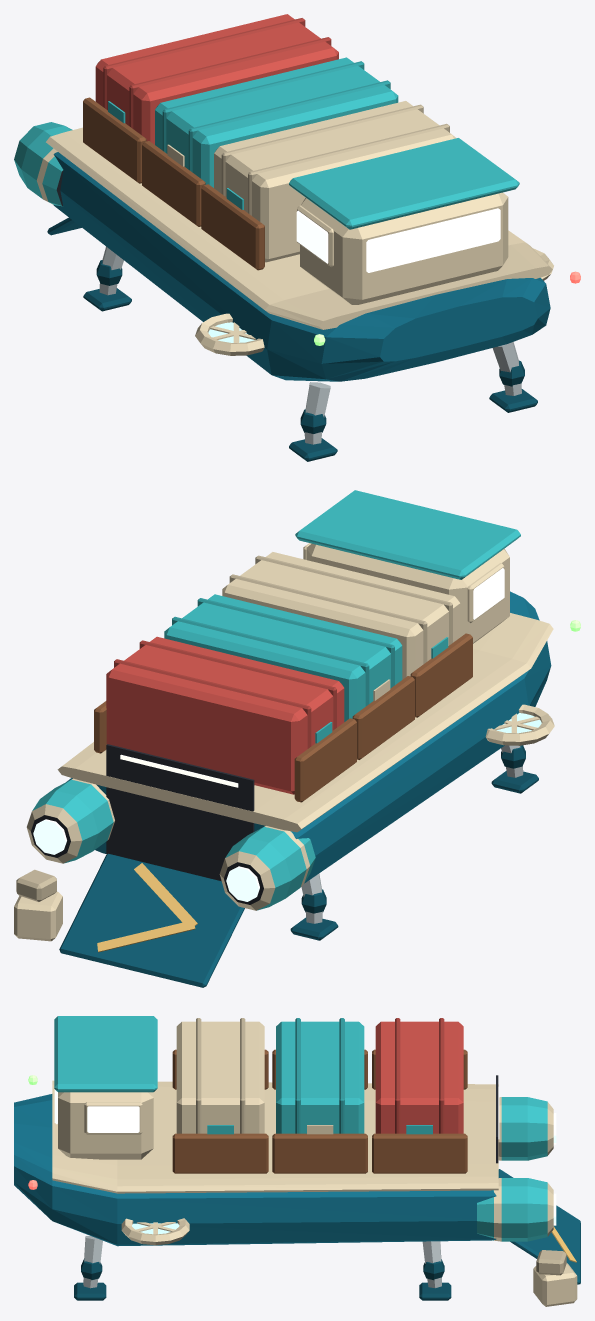
The model's file is pel-f_offen.glb.
3 renders of one model, top to bottom at view 1: azimuth 30°, elevation 25°; view 2: azimuth 150°, elevation 25°; view 3: azimuth 270°, elevation 25°, orthographic. The views are drawn at different scales.
Visible parts, largest first — view 1: rumpf, brücke, frachtmodul_1, deckstreifen, frachtmodul_3, frachtmodul_2, fenster, halterung_1, halterung_2, halterung_3, triebwerk_r, hubdüse (+3 smaller); view 2: frachtmodul_3, rampe, brücke, deckstreifen, rumpf, frachtmodul_1, frachtmodul_2, laderaum, triebwerk_r, triebwerk_l, halterung_3, ladung (+6 smaller); view 3: rumpf, deckstreifen, brücke, frachtmodul_1, frachtmodul_3, frachtmodul_2, halterung_1, triebwerk_l, halterung_3, halterung_2, triebwerk_r, ladung (+5 smaller).
Boxes of the visible parts, x1,y1,x2,y2 form: rumpf: [53, 152, 550, 381]; brücke: [289, 138, 519, 304]; frachtmodul_1: [214, 101, 456, 262]; deckstreifen: [46, 127, 552, 329]; frachtmodul_3: [95, 14, 338, 144]; frachtmodul_2: [155, 57, 398, 187]; fenster: [296, 205, 500, 272]; halterung_1: [201, 184, 264, 270]; halterung_2: [142, 141, 205, 226]; halterung_3: [83, 97, 146, 183]; triebwerk_r: [14, 122, 72, 206]; hubdüse: [195, 248, 553, 355]; frachtmodul_3: [106, 636, 344, 794]; rampe: [59, 853, 244, 987]; brücke: [295, 490, 520, 643]; deckstreifen: [57, 613, 553, 832]; rumpf: [66, 591, 551, 883]; frachtmodul_1: [222, 552, 460, 679]; frachtmodul_2: [164, 594, 402, 721]; laderaum: [106, 744, 254, 881]; triebwerk_r: [219, 826, 315, 910]; triebwerk_l: [26, 778, 114, 863]; halterung_3: [94, 701, 356, 802]; ladung: [14, 869, 62, 941]; rumpf: [14, 1094, 496, 1246]; deckstreifen: [52, 1080, 498, 1193]; brücke: [54, 1016, 157, 1159]; frachtmodul_1: [176, 1018, 264, 1134]; frachtmodul_3: [375, 1018, 463, 1134]; frachtmodul_2: [276, 1018, 364, 1134]; halterung_1: [172, 1049, 268, 1173]; triebwerk_l: [477, 1178, 556, 1241]; halterung_3: [372, 1049, 467, 1173]; halterung_2: [272, 1049, 367, 1173]; triebwerk_r: [498, 1097, 556, 1160]; ladung: [533, 1250, 577, 1306].
Size of the model in its own units: 0.1103 by 0.0739 by 0.1852.
